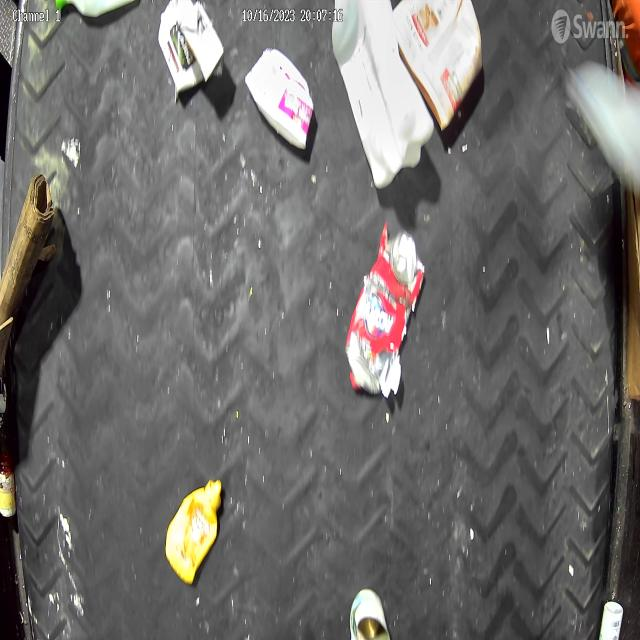can: (345, 220, 426, 395), (349, 585, 392, 640)
milk_jug: (332, 0, 434, 191)
non_white_jug: (164, 478, 223, 586)
